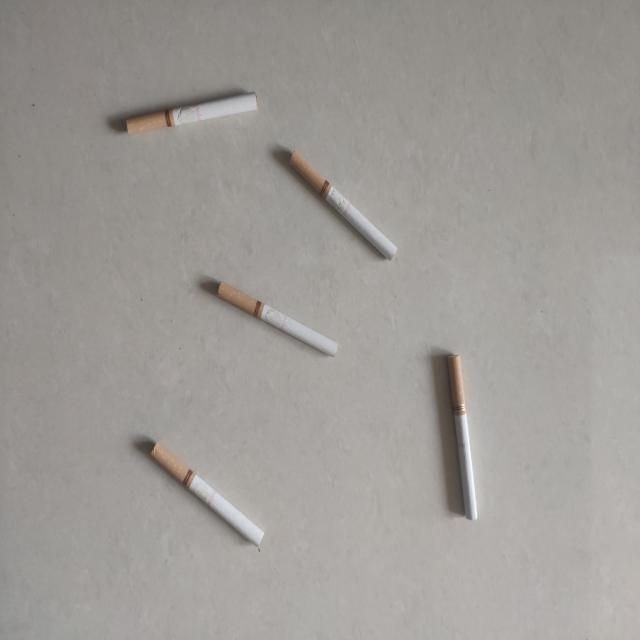smoking: (290, 148, 400, 261), (152, 443, 266, 547), (217, 282, 339, 358), (124, 90, 260, 136), (448, 356, 479, 522)
